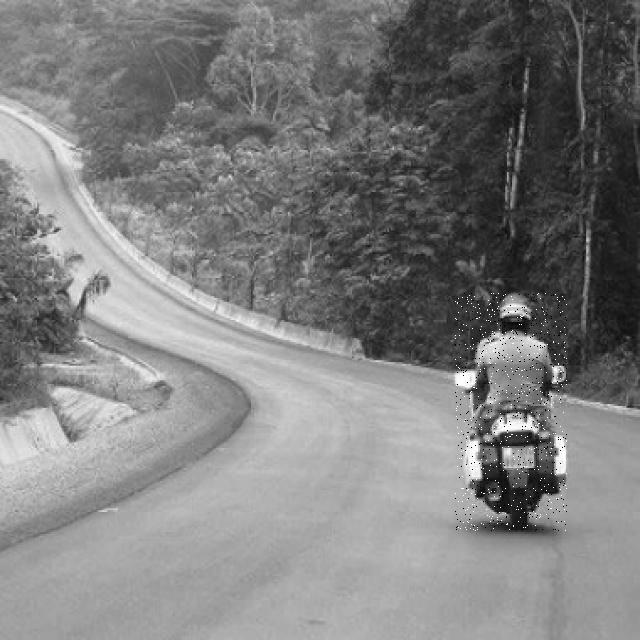Motorbike: (455, 293, 567, 531)
